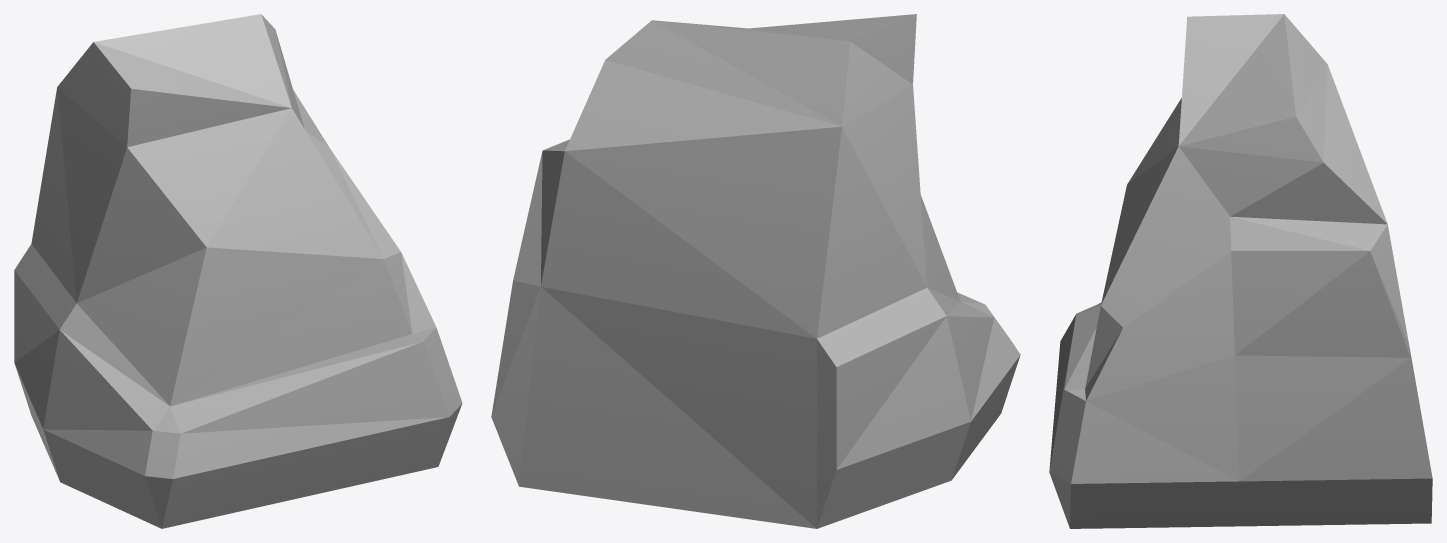
File: stone-small-7.glb
3 renders of one model, left to right at view 1: azimuth 30°, elevation 25°; view 2: azimuth 150°, elevation 25°; view 3: azimuth 270°, elevation 25°, orthographic. The views are drawn at different scales.
Parts seen in each view (by area): view 1: stone small 7; view 2: stone small 7; view 3: stone small 7.
Part boxes in pixels (x1=…): stone small 7: x1=14, y1=14, x2=462, y2=528; stone small 7: x1=491, y1=14, x2=1020, y2=528; stone small 7: x1=1049, y1=14, x2=1432, y2=528.
Size of the model in its own units: 0.5735 by 0.6482 by 0.5625.
1 material, 1 textured.
